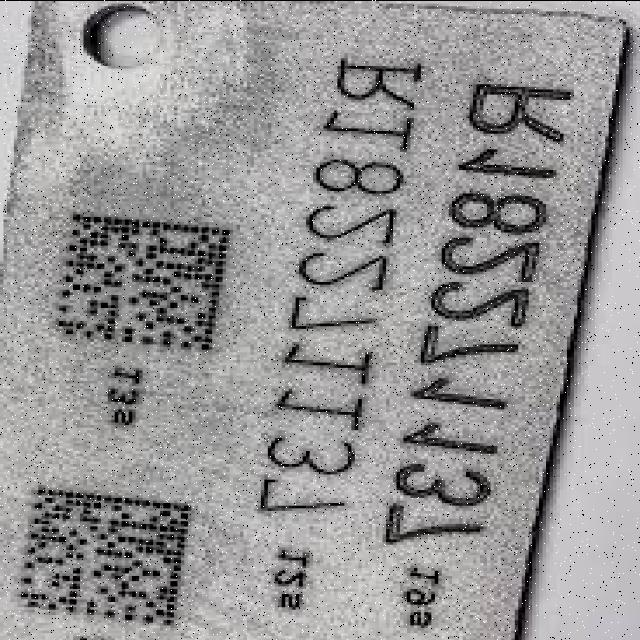datamatrix: (45, 203, 244, 356), (7, 479, 202, 632)
